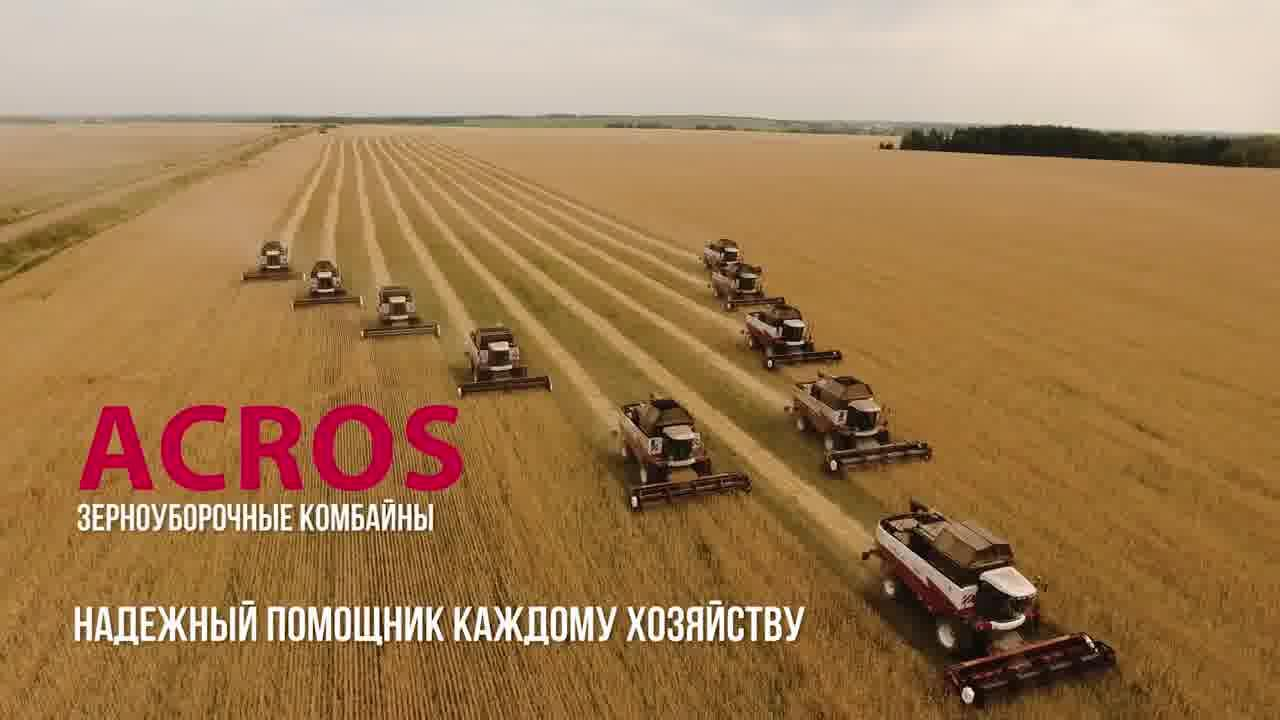combine harvester: (855, 495, 1118, 702), (608, 388, 754, 514), (786, 373, 938, 480), (450, 320, 569, 409), (739, 301, 848, 369), (360, 283, 440, 340), (292, 260, 370, 310), (235, 232, 307, 283), (708, 262, 771, 308), (703, 234, 748, 263)
